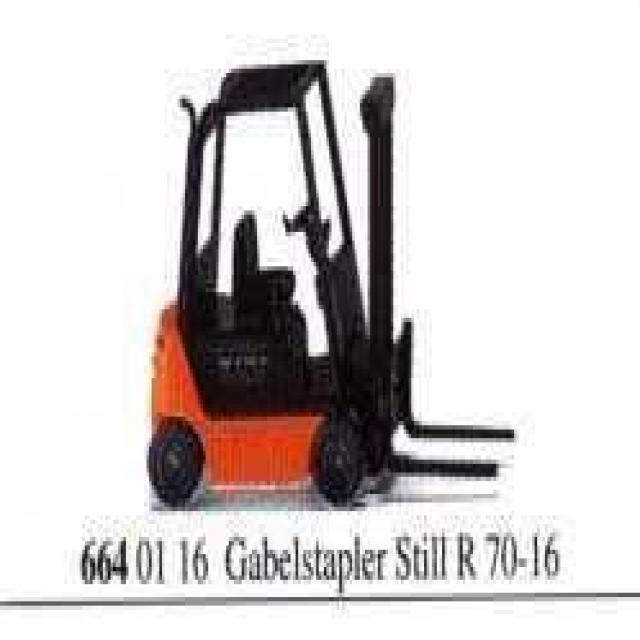forklift: (142, 47, 520, 511)
